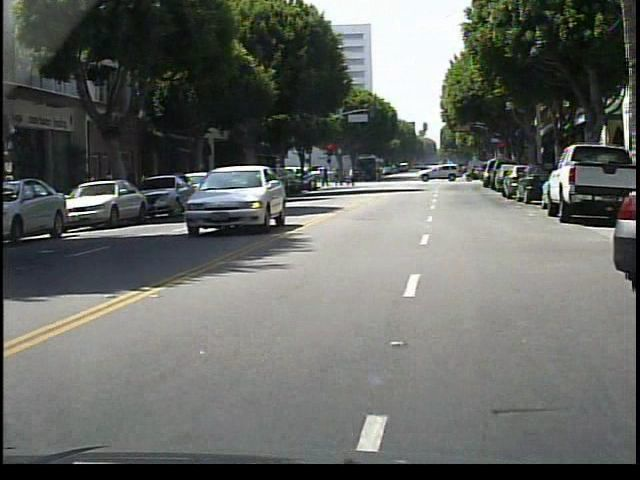person: (341, 163, 361, 192)
